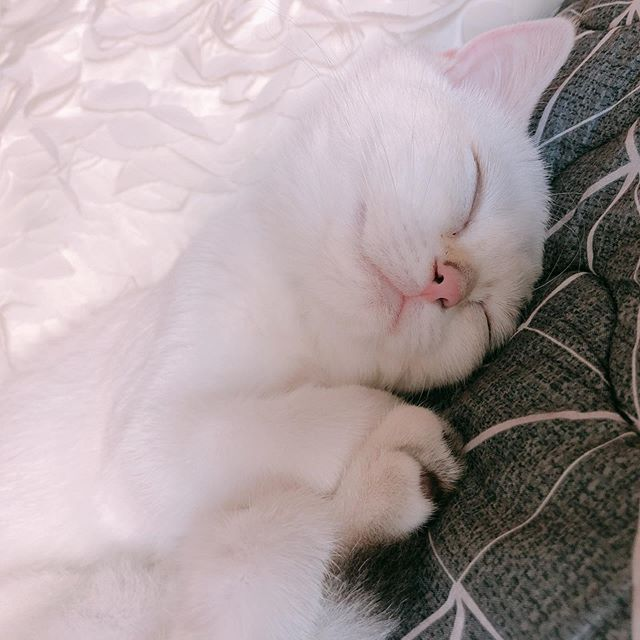cat: (287, 15, 584, 386)
